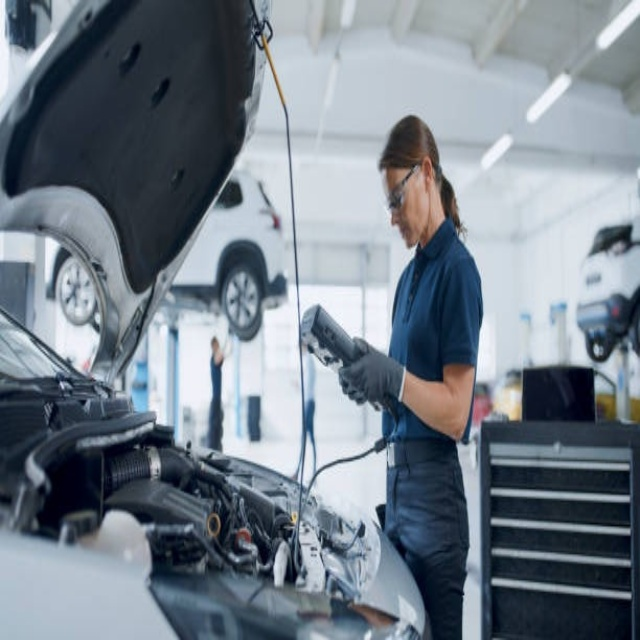Gafas: (382, 161, 422, 212)
Guantes: (339, 346, 407, 414)
Sin_mascara: (393, 221, 414, 247)
